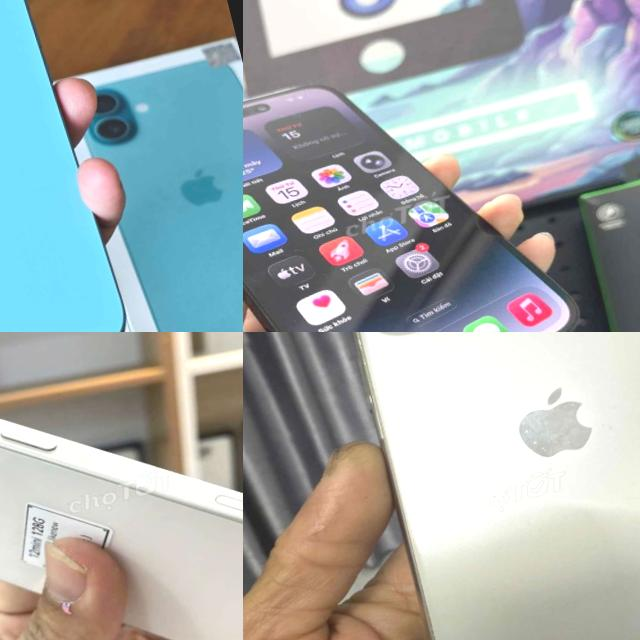scratch: (427, 363, 640, 501), (330, 332, 405, 431), (408, 604, 463, 640)
